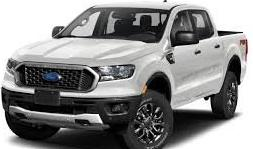Trucks: (2, 2, 248, 148)
